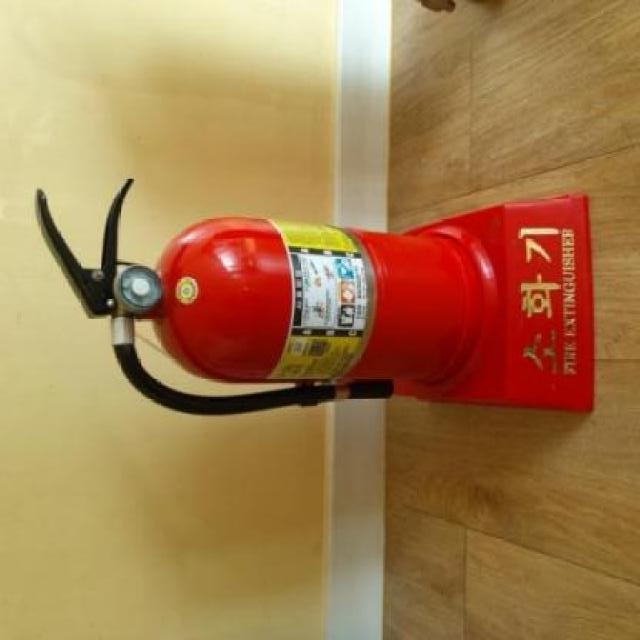fire extinguisher: (34, 177, 483, 415)
